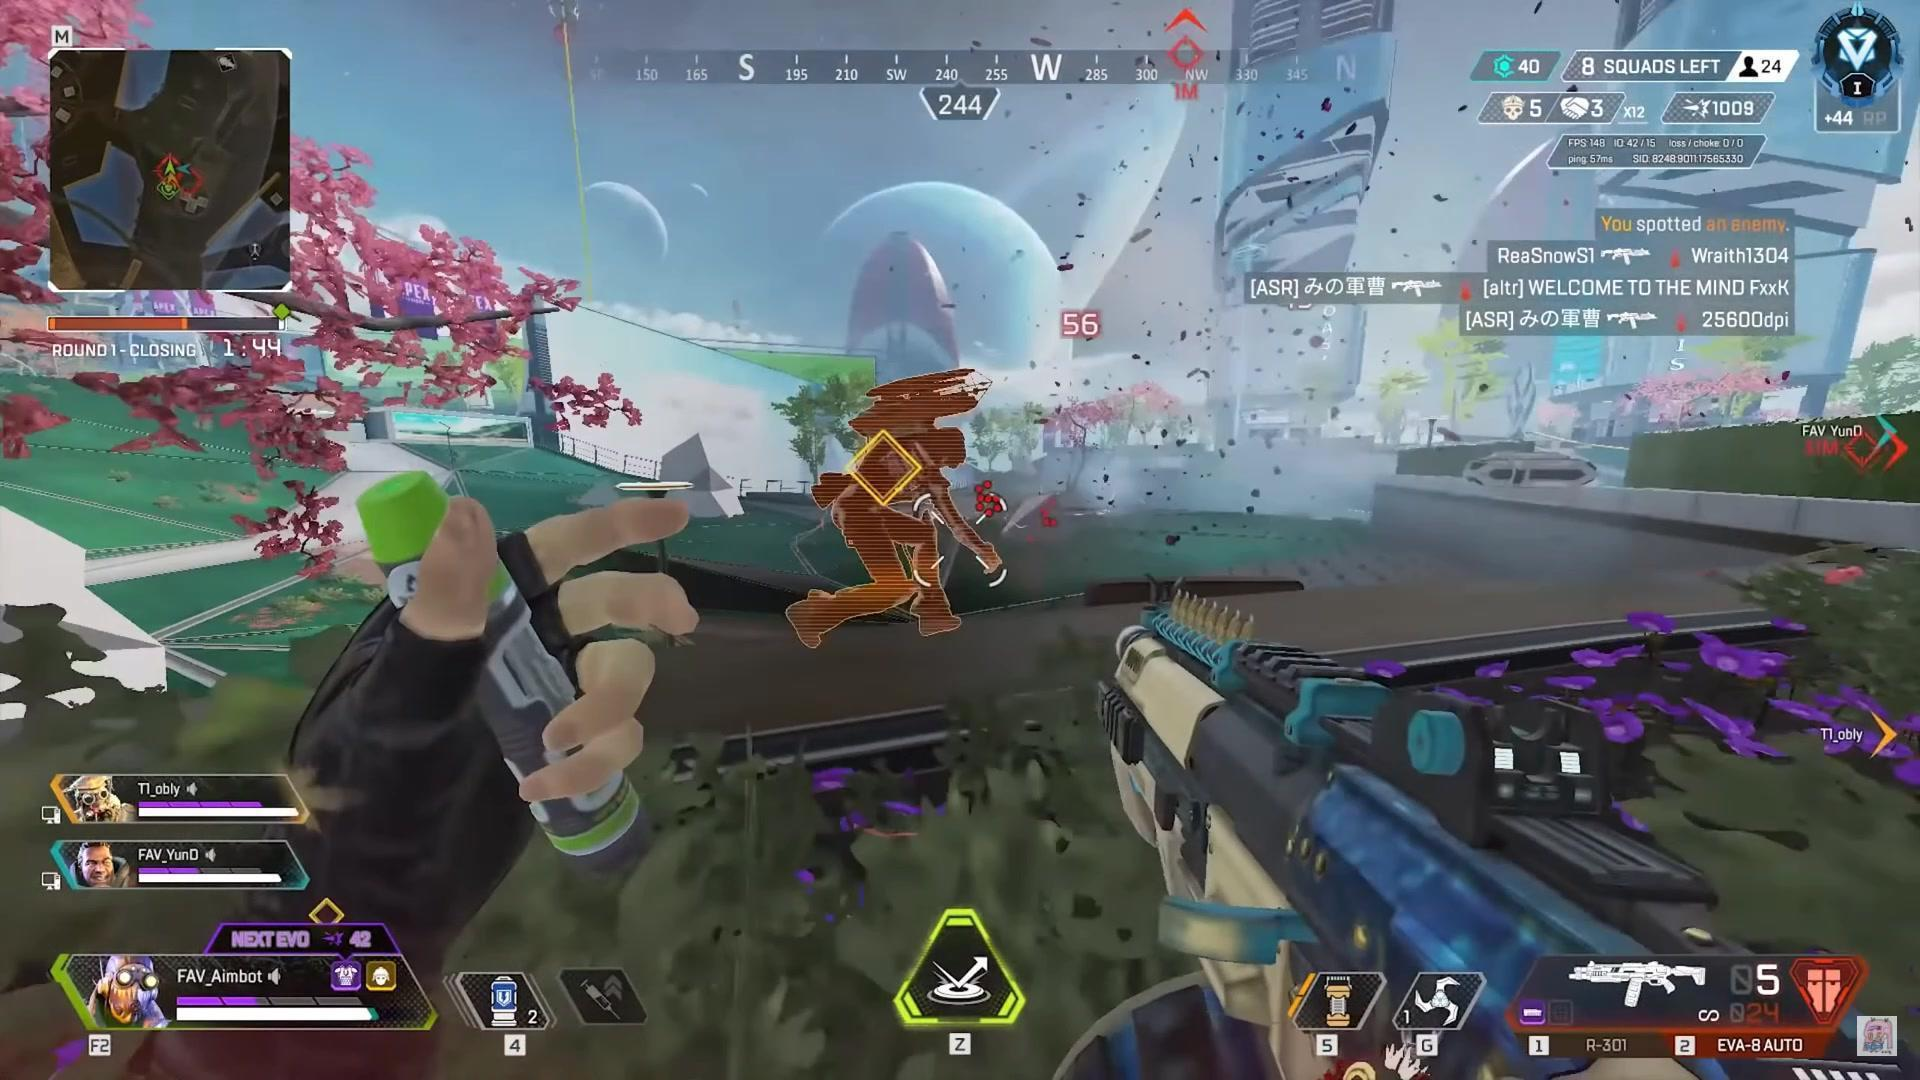avatar: (828, 421, 967, 637)
object: (842, 428, 922, 510)
